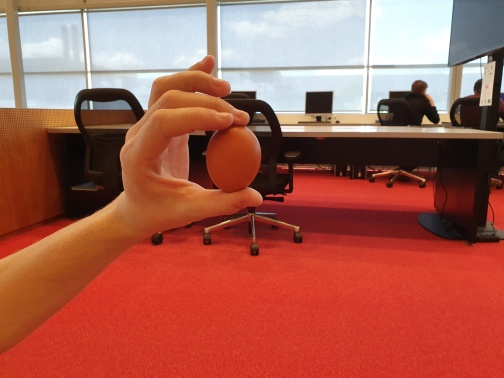egg: (207, 123, 262, 195)
